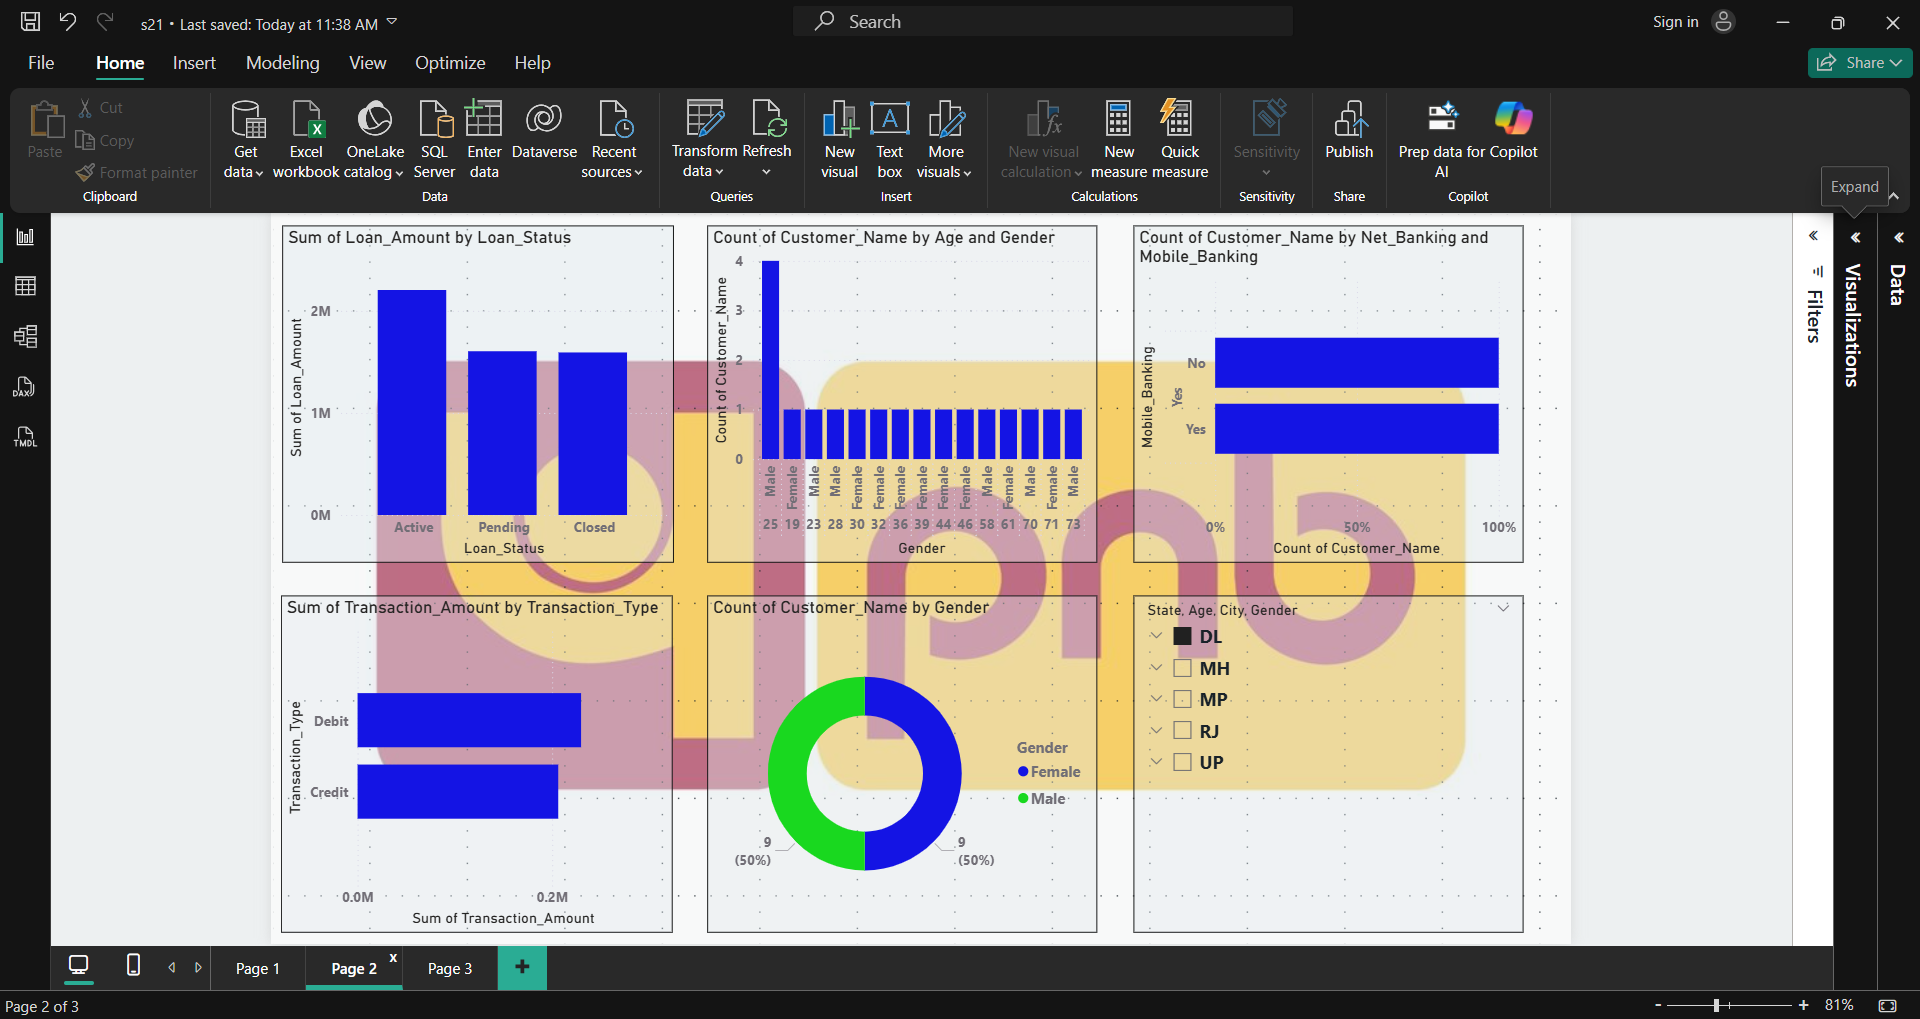

What the dashboard file says about the page in this screenshot:
{"tool":"powerbi","page":{"name":"Page 2","canvas":[1280,720],"ordinal":1},"visuals":[{"type":"clusteredColumnChart","fields":{"Category":["s21 bank_system_10000_records.Loan_Status"],"Y":["Sum(s21 bank_system_10000_records.Loan_Amount)"]},"box":[11.5,12.9,385.2,332.2],"z":0},{"type":"barChart","fields":{"Category":["s21 bank_system_10000_records.Transaction_Type"],"Y":["Sum(s21 bank_system_10000_records.Transaction_Amount)"]},"box":[10,376.6,385.2,332.2],"z":1000},{"type":"columnChart","fields":{"Category":["s21 bank_system_10000_records.Age","s21 bank_system_10000_records.Gender"],"Y":["CountNonNull(s21 bank_system_10000_records.Customer_Name)"]},"box":[415.3,12.9,385.2,332.2],"z":2000},{"type":"donutChart","fields":{"Category":["s21 bank_system_10000_records.Gender"],"Y":["CountNonNull(s21 bank_system_10000_records.Customer_Name)"]},"box":[415.3,376.6,385.2,332.2],"z":3000},{"type":"hundredPercentStackedBarChart","fields":{"Category":["s21 bank_system_10000_records.Net_Banking","s21 bank_system_10000_records.Mobile_Banking"],"Y":["CountNonNull(s21 bank_system_10000_records.Customer_Name)"]},"box":[817.7,12.9,383.8,332.2],"z":4000},{"type":"slicer","fields":{"Values":["s21 bank_system_10000_records.State","s21 bank_system_10000_records.Age","s21 bank_system_10000_records.City","s21 bank_system_10000_records.Gender"]},"box":[817.7,376.6,383.8,332.2],"z":5000}]}

Visuals, with their boxes on the page's 1280x720 design canvas (x1, y1, x2, y2). These are canvas units, not pixel positions in the 1920x1019 screenshot, which may show the page scaled, cropped or inside an application window:
clusteredColumnChart - s21 bank_system_10000_records.Loan_Status x Sum(s21 bank_system_10000_records.Loan_Amount): x1=12, y1=13, x2=397, y2=345
barChart - s21 bank_system_10000_records.Transaction_Type x Sum(s21 bank_system_10000_records.Transaction_Amount): x1=10, y1=377, x2=395, y2=709
columnChart - s21 bank_system_10000_records.Age x s21 bank_system_10000_records.Gender: x1=415, y1=13, x2=800, y2=345
donutChart - s21 bank_system_10000_records.Gender x CountNonNull(s21 bank_system_10000_records.Customer_Name): x1=415, y1=377, x2=800, y2=709
hundredPercentStackedBarChart - s21 bank_system_10000_records.Net_Banking x s21 bank_system_10000_records.Mobile_Banking: x1=818, y1=13, x2=1202, y2=345
slicer - s21 bank_system_10000_records.State x s21 bank_system_10000_records.Age: x1=818, y1=377, x2=1202, y2=709
